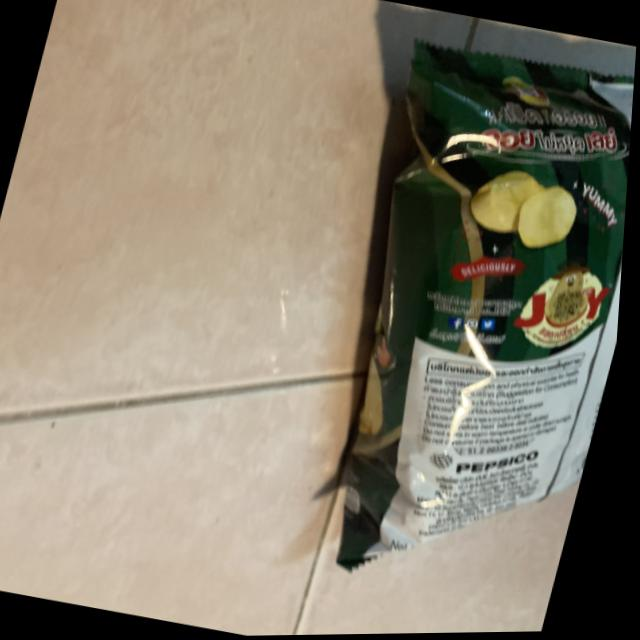Laygreen: (249, 13, 639, 616)
